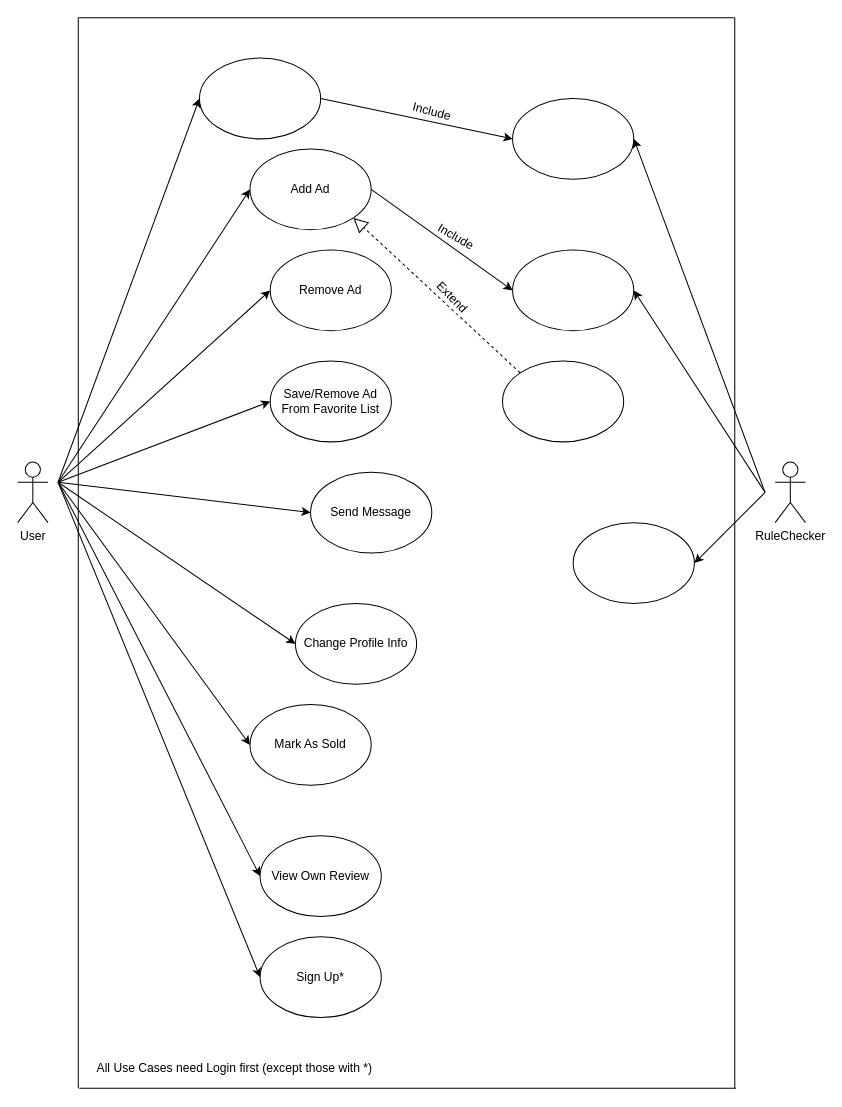
Some shapes in this 842 by 1107 pixel diagram are drawn without their labels. Each missing label, with the centre of its shape:
"Highlight Ad" belongs at [562,401].
"Report User/Ad" belongs at [633,562].
"Validate Ad" belongs at [573,290].
"Validate Review" belongs at [573,138].
"Write Review" belongs at [259,98].
